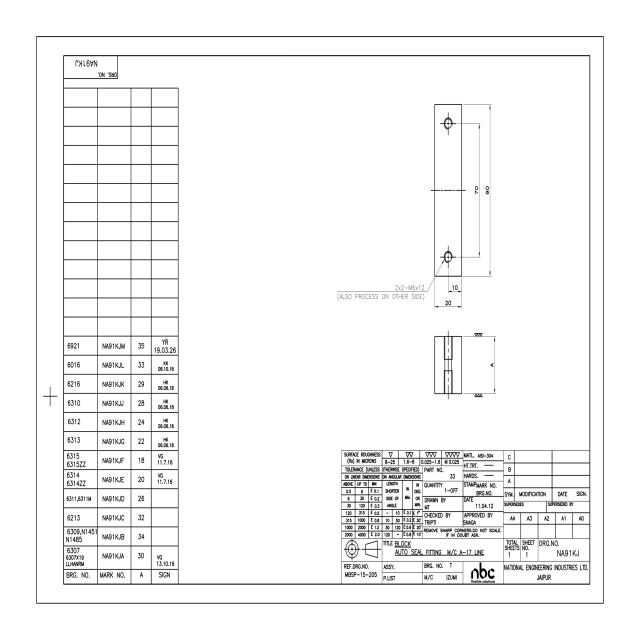dimension: (336, 283, 426, 302), (485, 103, 493, 277), (473, 122, 482, 258), (488, 335, 496, 395), (433, 300, 462, 309), (447, 283, 462, 294)
